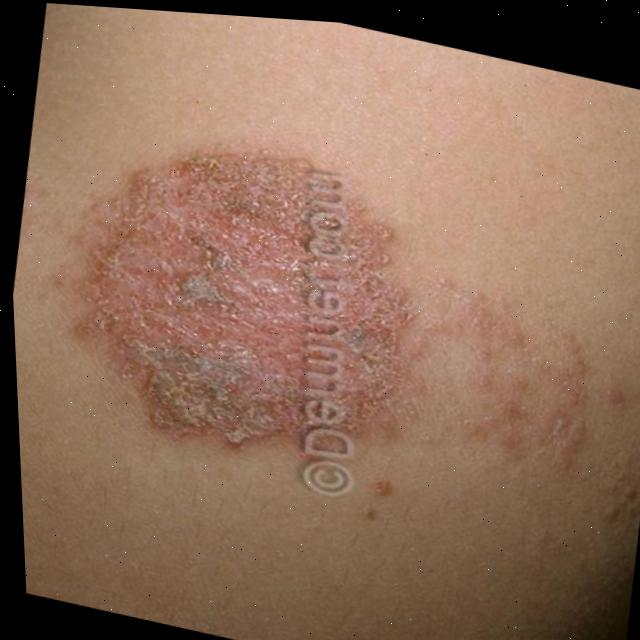Eczema: (63, 131, 424, 480)
